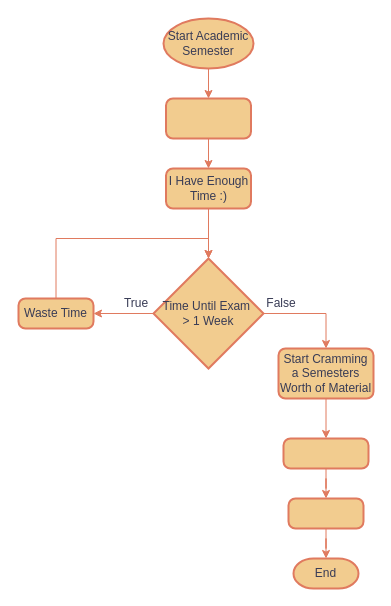
The diagram is 391 pixels wide and 606 high, and some of its shapes have lost their labels. The centre of each missing label's shape, as x and y in pixels:
Fail Exams: point 325,453
Plan to Study Everyday: point 208,118
Regret.: point 325,513
